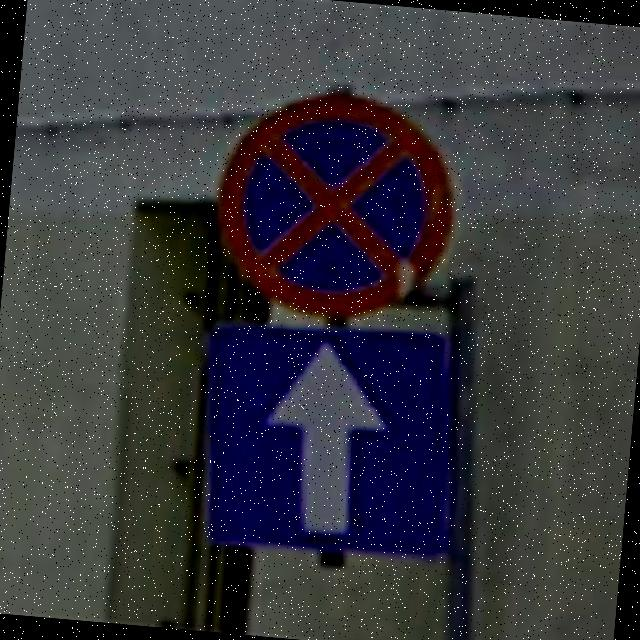Zakaz zatrzymywania sie: (202, 78, 466, 332)
